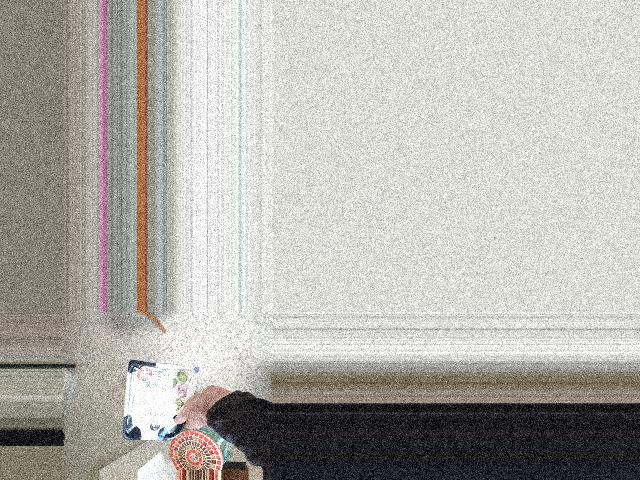cheese: (138, 362, 225, 441)
